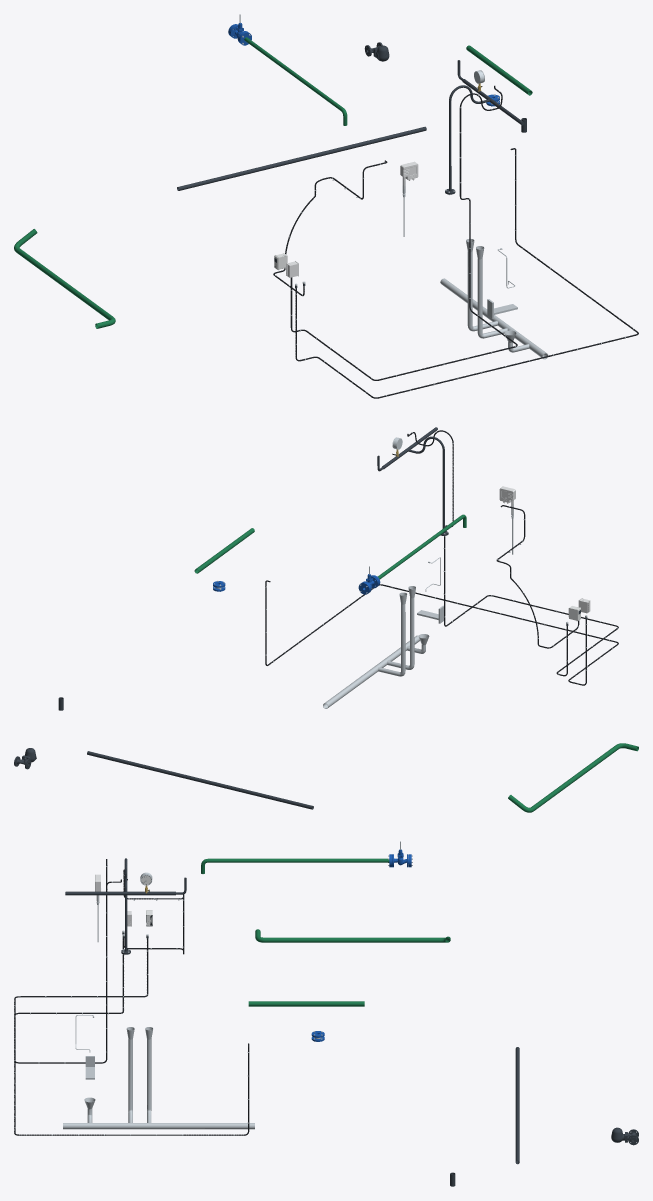
The picture shows the model from 3 angles, top to bottom: view 1: azimuth 30°, elevation 25°; view 2: azimuth 150°, elevation 25°; view 3: azimuth 270°, elevation 25°; orthographic projection. The views are drawn at different scales.
Parts seen in each view (by area): view 1: local_open_drains / steel, wiring_pressure_transmitter / black, wiring_pump_1 / black, bottom_discharge / dark, deaerator_feed / green, pressure_header / dark, direct_inlet / green; view 2: local_open_drains / steel, wiring_pump_1 / black, bottom_discharge / dark, wiring_pressure_transmitter / black, deaerator_feed / green, pressure_header / dark; view 3: local_open_drains / steel, deaerator_feed / green, wiring_pump_1 / black, wiring_pressure_transmitter / black, direct_inlet / green, pressure_header / dark, pump_delivery / green, bottom_discharge / dark.
Part boxes in pixels (<box>): local_open_drains / steel: <box>440,239,548,359</box>; wiring_pressure_transmitter / black: <box>290,85,517,380</box>; wiring_pump_1 / black: <box>295,148,638,398</box>; bottom_discharge / dark: <box>177,126,426,190</box>; deaerator_feed / green: <box>14,229,115,328</box>; pressure_header / dark: <box>445,60,524,194</box>; direct_inlet / green: <box>244,37,347,125</box>; local_open_drains / steel: <box>323,586,429,708</box>; wiring_pump_1 / black: <box>265,580,618,685</box>; bottom_discharge / dark: <box>87,751,313,809</box>; wiring_pressure_transmitter / black: <box>407,430,618,676</box>; deaerator_feed / green: <box>508,743,638,812</box>; pressure_header / dark: <box>377,427,448,535</box>; local_open_drains / steel: <box>63,1027,254,1129</box>; deaerator_feed / green: <box>255,929,450,942</box>; wiring_pump_1 / black: <box>14,938,249,1135</box>; wiring_pressure_transmitter / black: <box>14,859,148,1063</box>; direct_inlet / green: <box>201,858,389,873</box>; pressure_header / dark: <box>65,858,186,954</box>; pump_delivery / green: <box>248,1001,364,1006</box>; bottom_discharge / dark: <box>515,1047,519,1164</box>.
Bounding box in the file's own units: 6.25 × 2.93 × 6.74.
